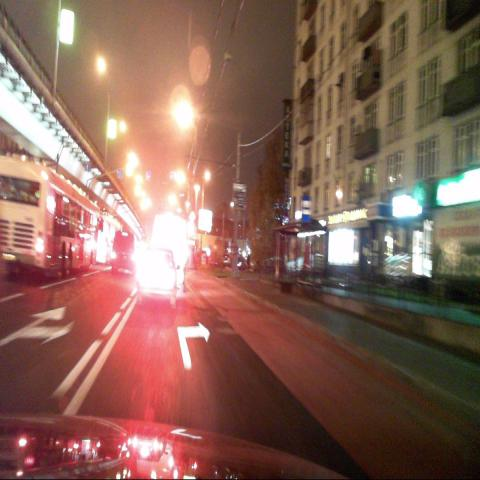5_16: (301, 196, 311, 223)
